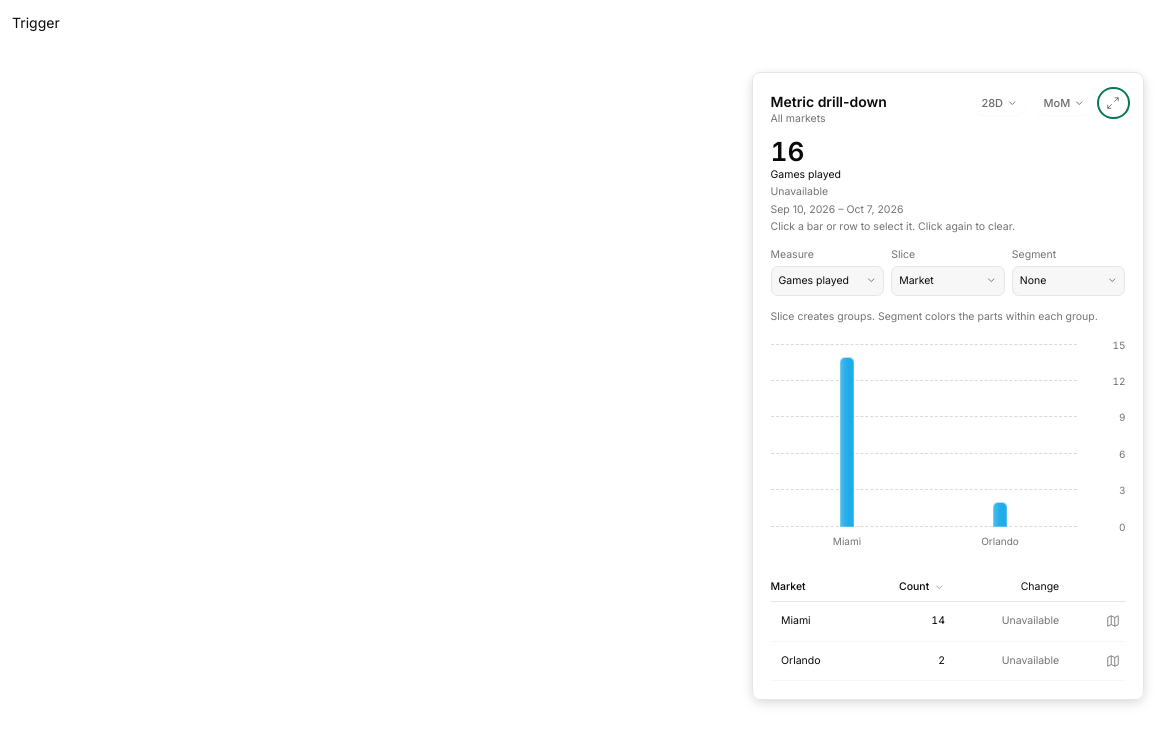
Test: MetricDrillDownPanel › filters chart and table by selection and restores groups when cleared
Click the button named "Miami: 14": (847, 442) [840, 357, 854, 526]
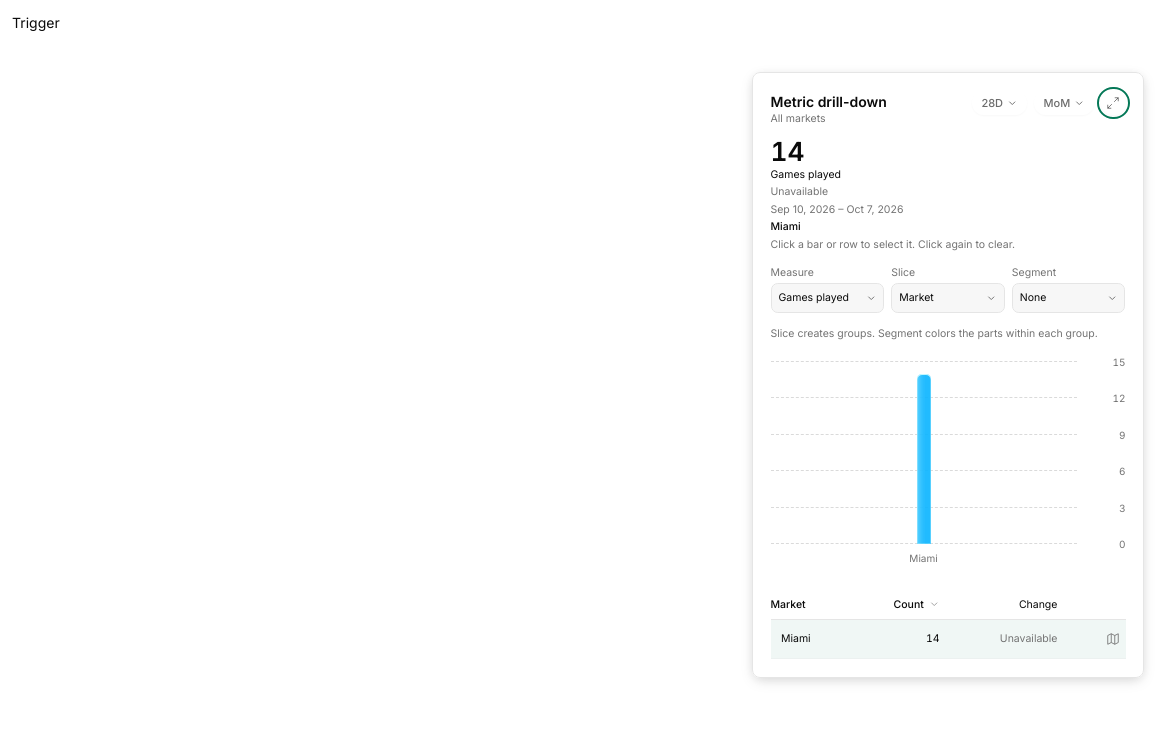
Expected: the text "14" is shown, [770, 136, 804, 167]
Click the row "Miami 14 Unavailable": (948, 639) [770, 619, 1126, 658]
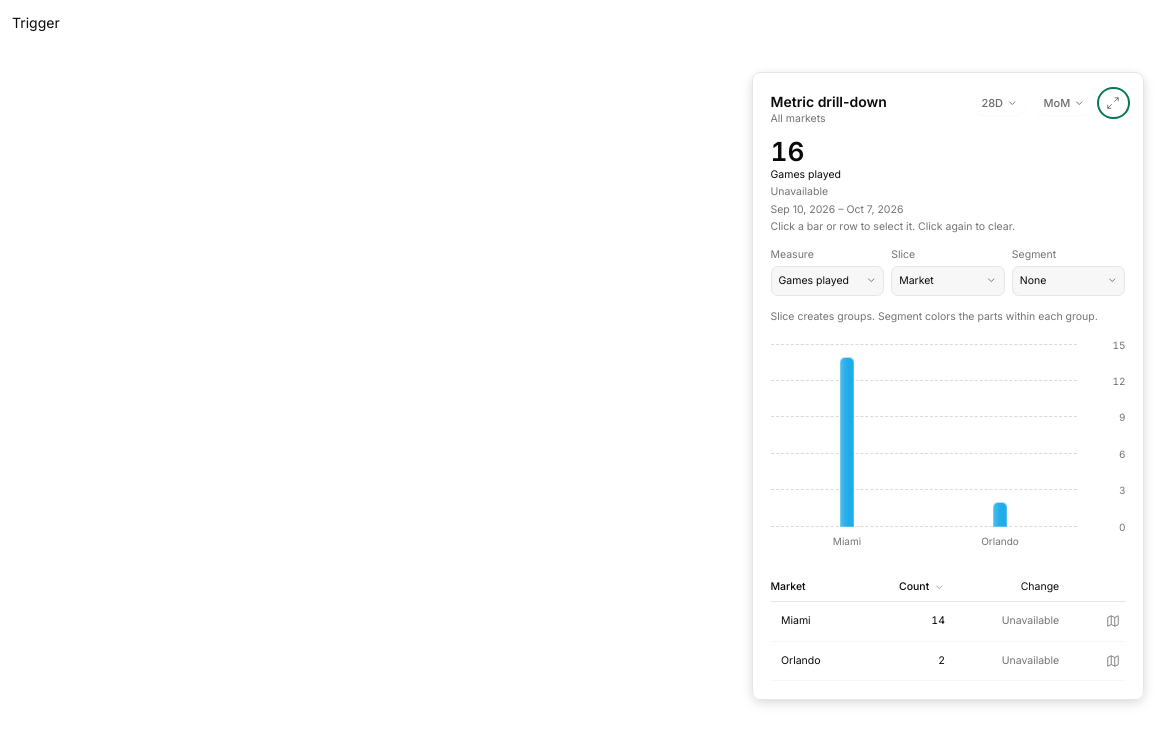
Expected: the number of rows is 3, [770, 573, 1126, 602]; [770, 602, 1126, 641]; [770, 641, 1126, 680]
Expected: the text "16" is shown, [770, 136, 804, 167]
